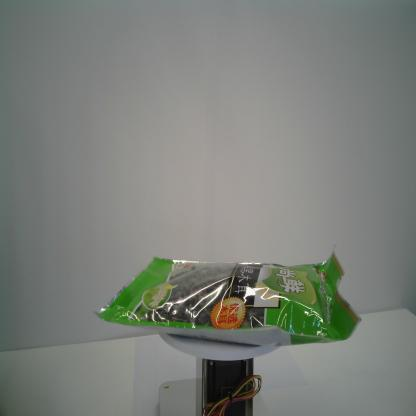Dried Food: (92, 244, 362, 347)
